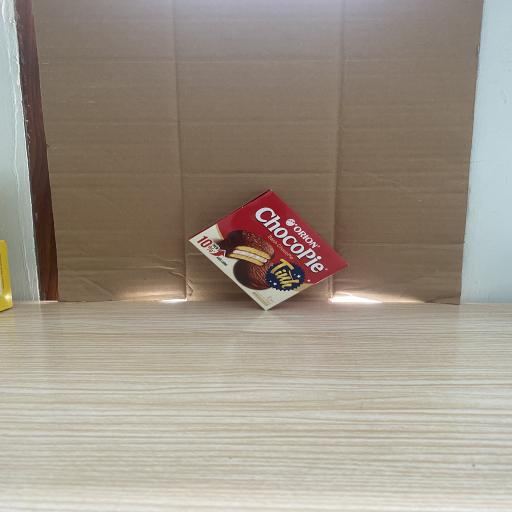chocopie: (188, 188, 349, 312)
